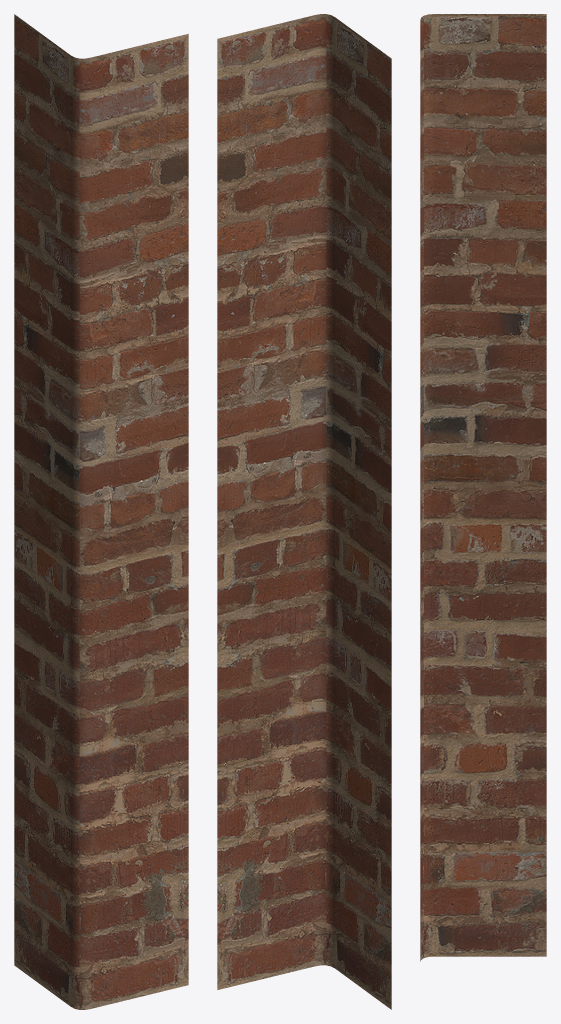
The model's file is SM_Wall_Windows_B_Corner.fbx.
3 views of the same model, side by side, from view 1: azimuth 30°, elevation 25°; view 2: azimuth 210°, elevation 25°; view 3: azimuth 270°, elevation 25° (orthographic).
Parts seen in each view (by area): view 1: SM_Wall_Windows_B_Corner; view 2: SM_Wall_Windows_B_Corner; view 3: SM_Wall_Windows_B_Corner.
Boxes of the visible parts, bbox=[...] form: SM_Wall_Windows_B_Corner: bbox=[14, 14, 188, 1009]; SM_Wall_Windows_B_Corner: bbox=[217, 14, 391, 1009]; SM_Wall_Windows_B_Corner: bbox=[420, 14, 546, 961].
Bounding box in the file's own units: 85.13 × 85.13 × 700.
1 material, 1 textured.
